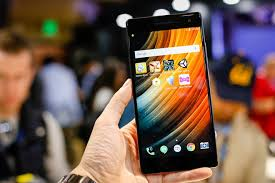lenovo: (122, 10, 220, 177)
